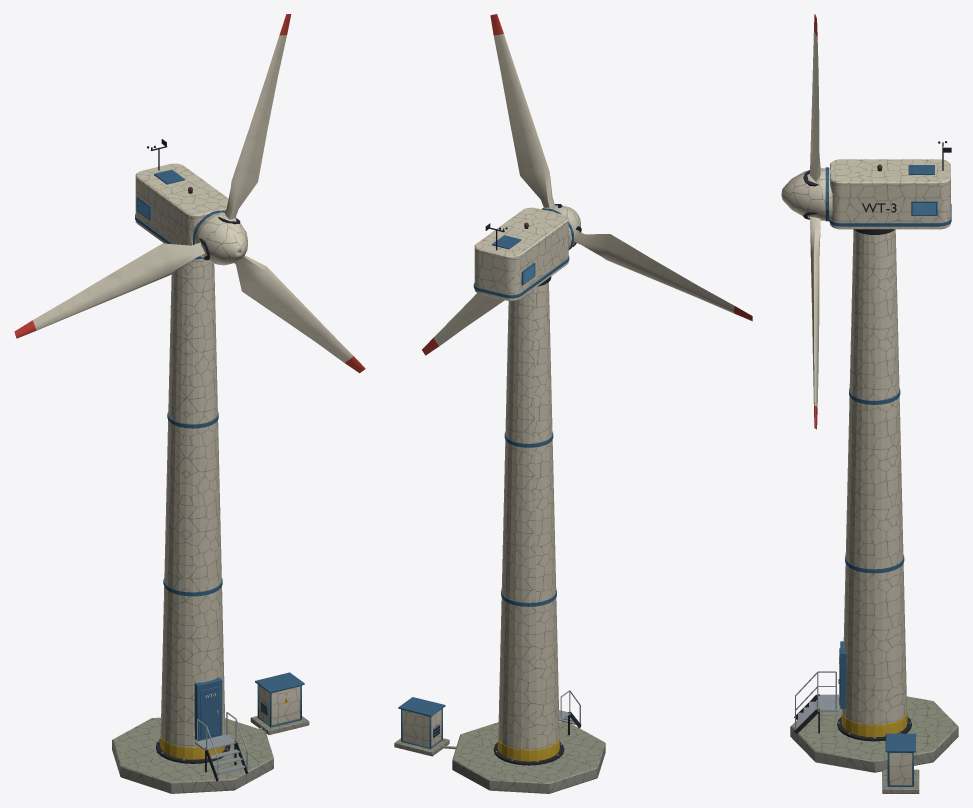
File: wind_turbine_colony.glb
3 views of the same model, side by side, from view 1: azimuth 30°, elevation 25°; view 2: azimuth 150°, elevation 25°; view 3: azimuth 270°, elevation 25° (orthographic). The views are drawn at different scales.
Visible parts, largest first — view 1: wind_turbine_colony; view 2: wind_turbine_colony; view 3: wind_turbine_colony.
Boxes of the visible parts, box(x1,y1,x2,y2) form: wind_turbine_colony: box(14, 14, 365, 793); wind_turbine_colony: box(394, 14, 752, 793); wind_turbine_colony: box(781, 14, 958, 793).
Bounding box in the file's own units: 15.42 × 31.67 × 6.75.
17 materials, 17 textured.
